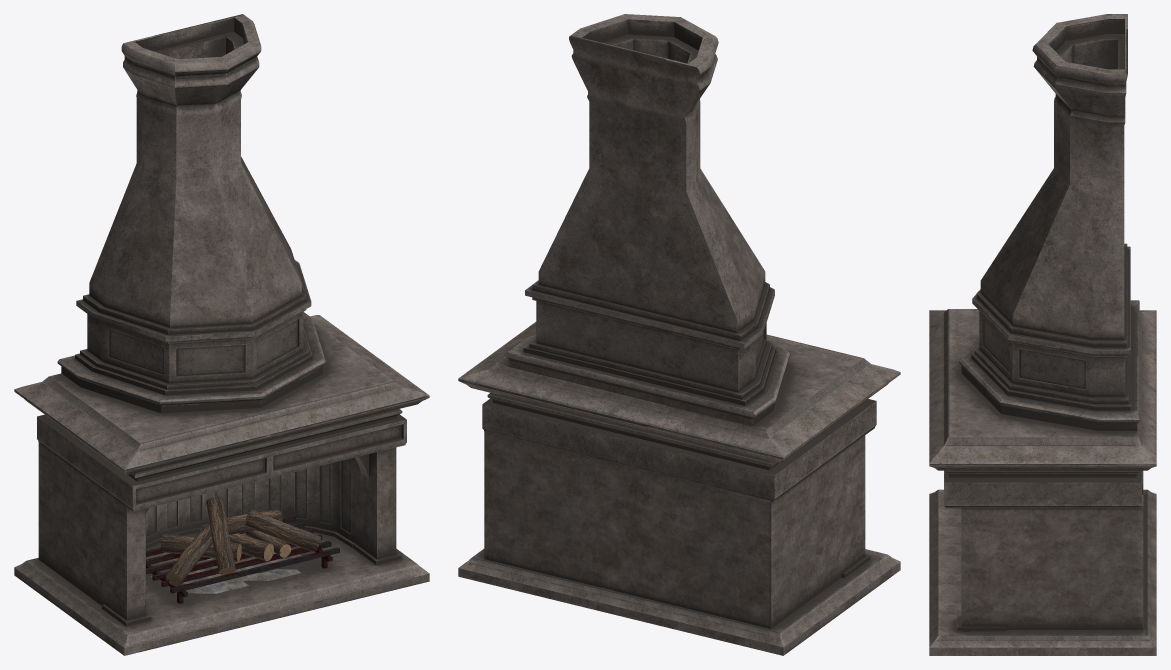
File: medieval_fireplace_free.glb
3 views of the same model, side by side, from view 1: azimuth 30°, elevation 25°; view 2: azimuth 150°, elevation 25°; view 3: azimuth 270°, elevation 25° (orthographic). The views are drawn at different scales.
Parts seen in each view (by area): view 1: Object_9, Object_7, Object_6, Object_4, Object_5, Object_8, Object_3; view 2: Object_9, Object_6, Object_7, Object_4; view 3: Object_9, Object_7, Object_6, Object_4.
Part boxes in pixels (x1=…): Object_9: x1=57, y1=14, x2=325, y2=413; Object_7: x1=14, y1=315, x2=429, y2=511; Object_6: x1=38, y1=442, x2=401, y2=626; Object_4: x1=14, y1=532, x2=429, y2=655; Object_5: x1=161, y1=497, x2=321, y2=586; Object_8: x1=146, y1=515, x2=339, y2=603; Object_3: x1=151, y1=548, x2=301, y2=593; Object_9: x1=504, y1=14, x2=790, y2=426; Object_6: x1=484, y1=431, x2=870, y2=628; Object_7: x1=458, y1=322, x2=900, y2=501; Object_4: x1=458, y1=549, x2=900, y2=655; Object_9: x1=959, y1=14, x2=1139, y2=430; Object_7: x1=929, y1=309, x2=1156, y2=508; Object_6: x1=956, y1=470, x2=1143, y2=631; Object_4: x1=929, y1=489, x2=1156, y2=655.
Size of the model in its own units: 200 by 325 by 125.
Materials: 8 (8 with a texture image).
